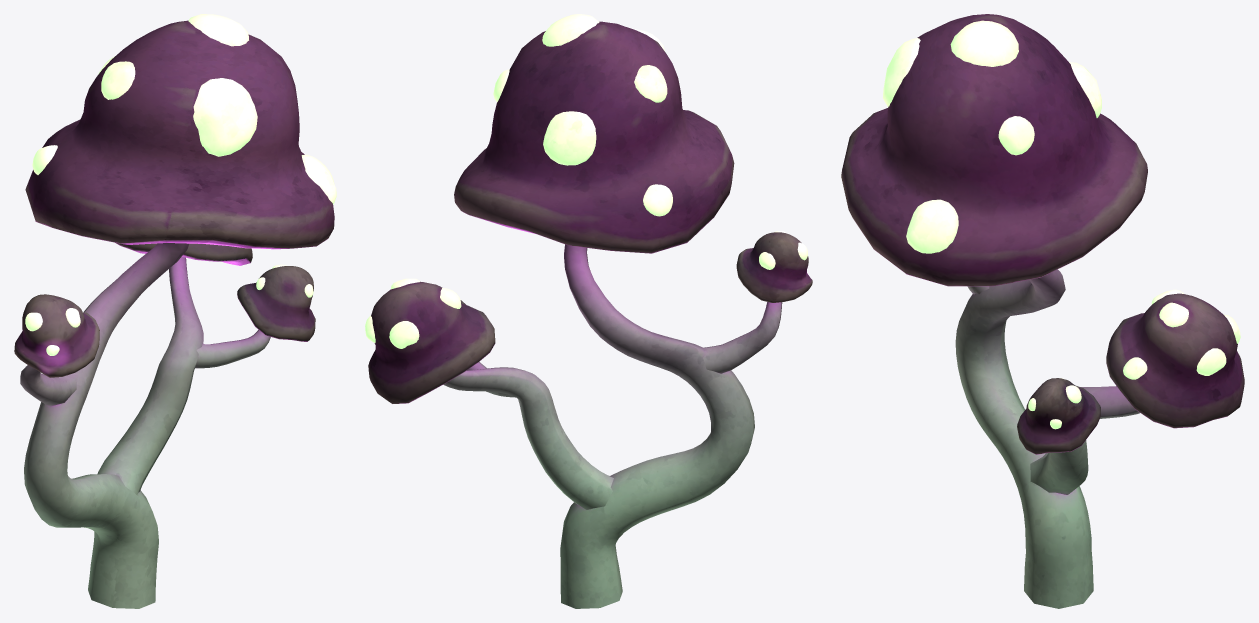
3 renders of one model, left to right at view 1: azimuth 30°, elevation 25°; view 2: azimuth 150°, elevation 25°; view 3: azimuth 270°, elevation 25°, orthographic. The views are drawn at different scales.
Parts seen in each view (by area): view 1: mushroom_round_Low; view 2: mushroom_round_Low; view 3: mushroom_round_Low.
Part boxes in pixels (box(x1,y1,x2,y2)): mushroom_round_Low: box(14, 14, 336, 608); mushroom_round_Low: box(365, 14, 812, 608); mushroom_round_Low: box(841, 14, 1244, 608).
Bounding box in the file's own units: 334 × 531 × 327.
1 material, 1 textured.
